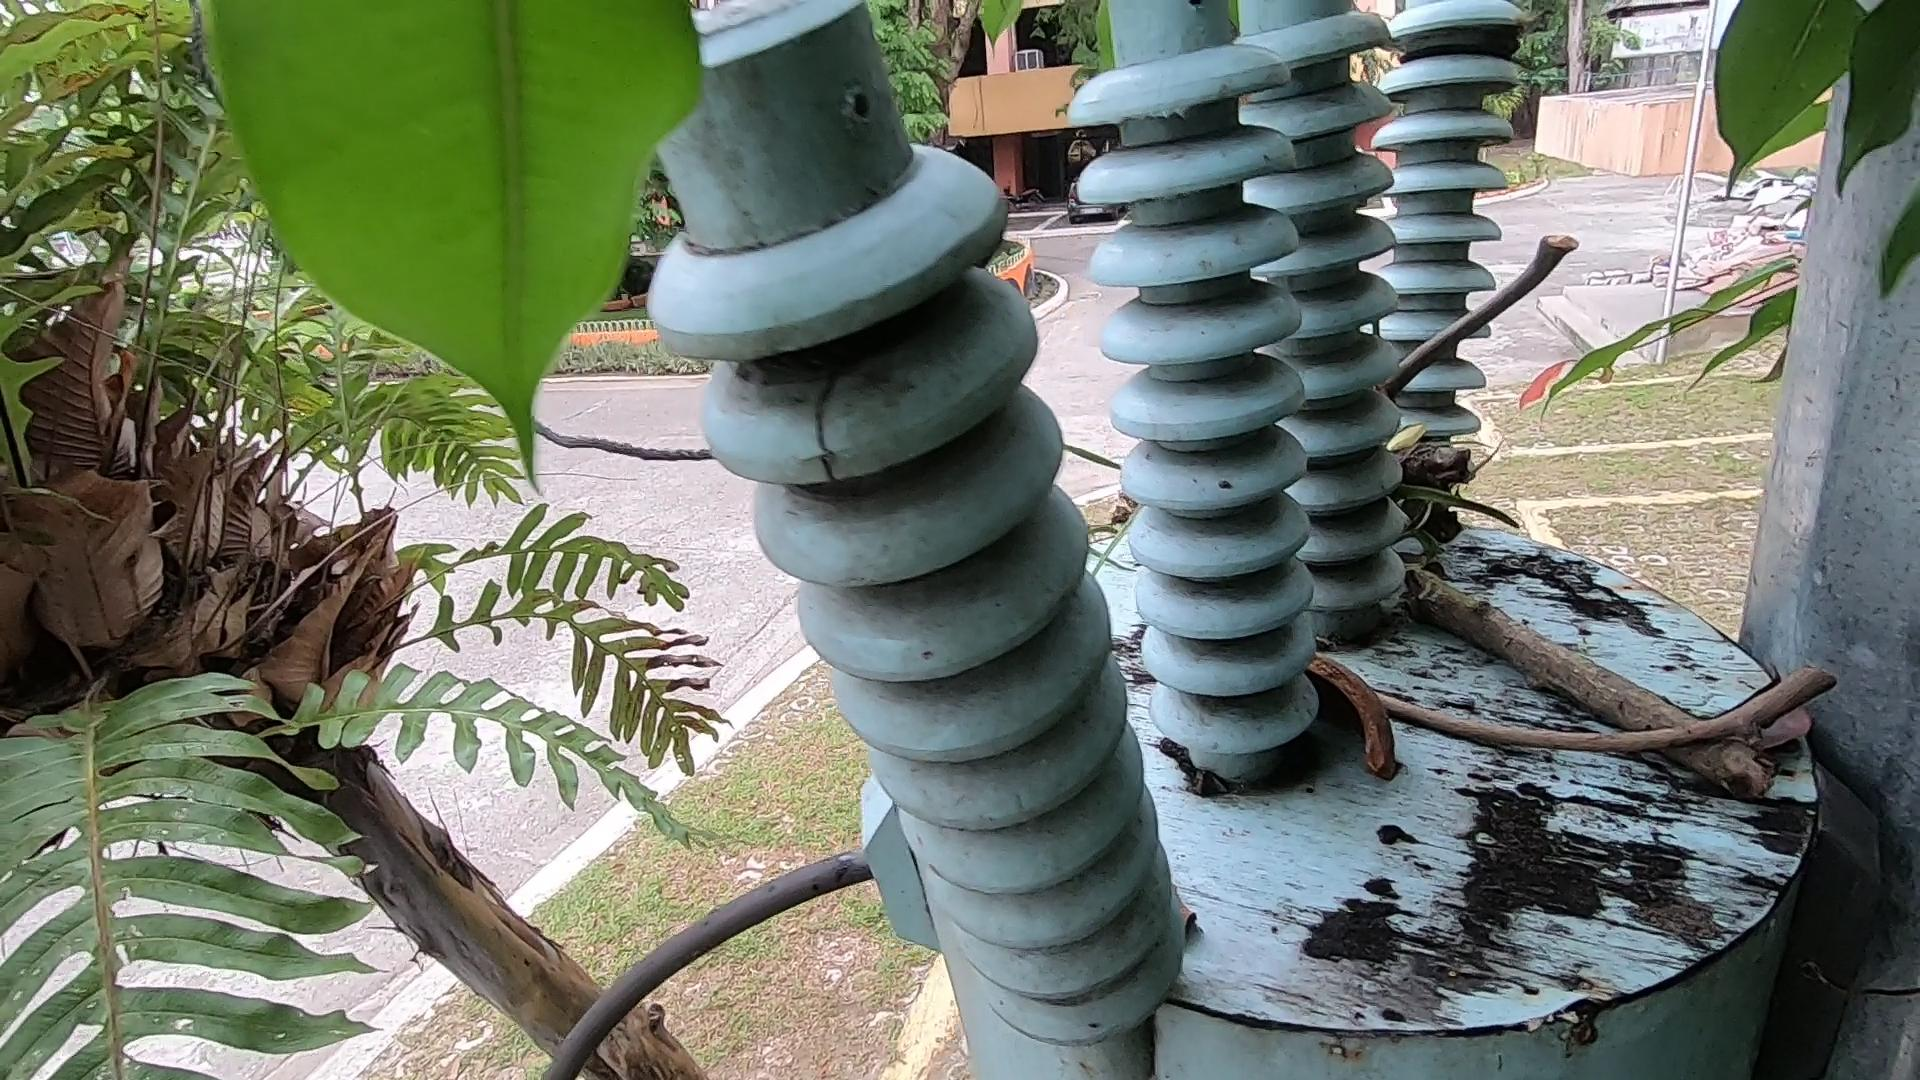leaf: (1133, 837, 1236, 957), (1758, 657, 1815, 782)
mahogany fruit: (1304, 617, 1443, 800)
tree branch: (1321, 407, 1797, 837), (1346, 200, 1619, 448), (1395, 671, 1837, 785)
